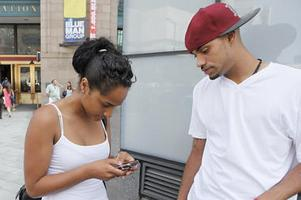person: (25, 38, 138, 200)
